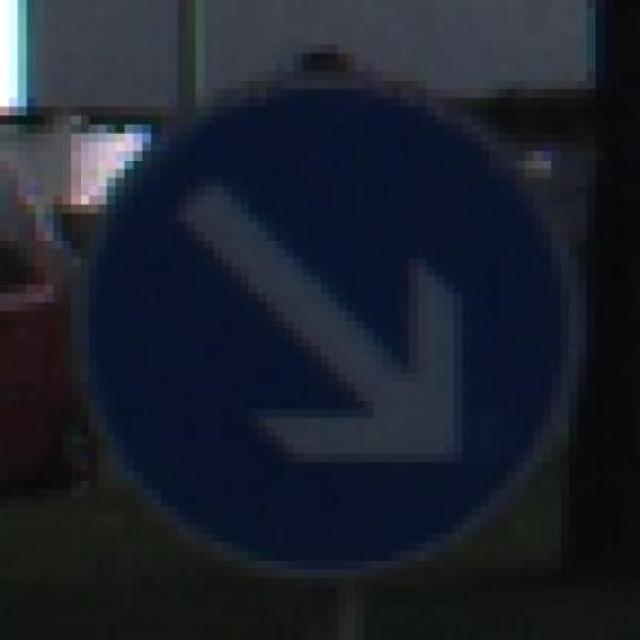Keep-Right: (53, 71, 578, 587)
